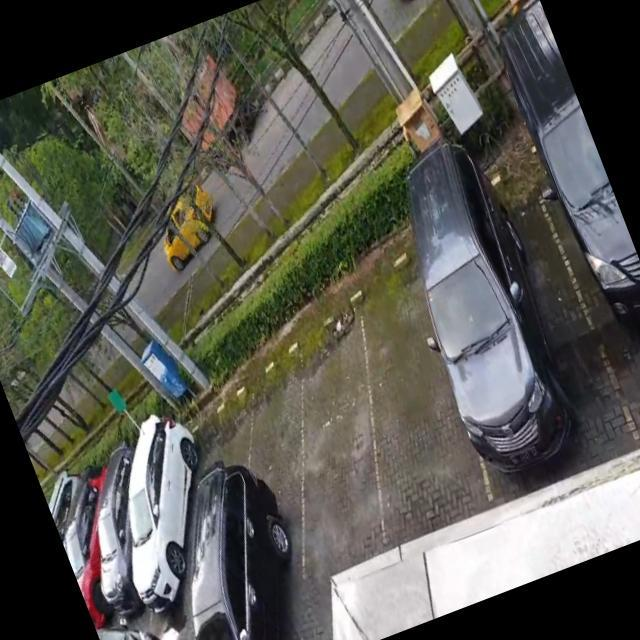empty: (318, 264, 499, 542), (249, 319, 411, 564), (207, 363, 343, 582)
occupied: (388, 170, 638, 501)
